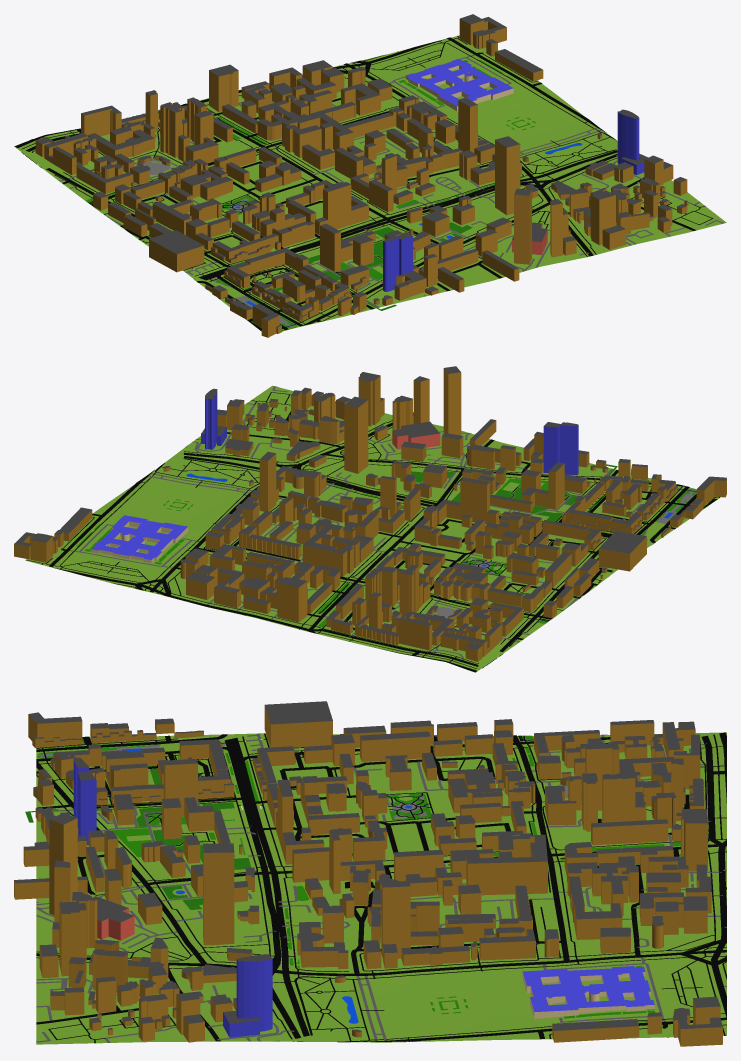
The model's file is tile_05_04.glb.
The picture shows the model from 3 angles, top to bottom: view 1: azimuth 30°, elevation 25°; view 2: azimuth 150°, elevation 25°; view 3: azimuth 270°, elevation 25°; orthographic projection. The views are drawn at different scales.
Visible parts, largest first — view 1: Ub_small.osm_buildings_05_04, Terrain_05_04, Ub_small.osm_paths_footway_05_04, Government_05_04, Ub_small.osm_roads_service_05_04, Ub_small.osm_roads_secondary_05_04, Ub_small.osm_roads_trunk_05_04, Ub_small.osm_vegetation_05_04, Twin_Tower_05_04, Ub_small.osm_roads_residential_05_04, Blue_Sky_05_04, Ub_small.osm_forest_05_04 (+2 smaller); view 2: Ub_small.osm_buildings_05_04, Terrain_05_04, Ub_small.osm_paths_footway_05_04, Ub_small.osm_roads_secondary_05_04, Government_05_04, Ub_small.osm_roads_service_05_04, Twin_Tower_05_04, Ub_small.osm_roads_primary_05_04, Ub_small.osm_roads_residential_05_04, Ub_small.osm_vegetation_05_04, Ub_small.osm_roads_trunk_05_04, National_Drama_Theatre_05_04 (+3 smaller); view 3: Ub_small.osm_buildings_05_04, Terrain_05_04, Ub_small.osm_paths_footway_05_04, Ub_small.osm_roads_secondary_05_04, Ub_small.osm_roads_service_05_04, Government_05_04, Ub_small.osm_roads_trunk_05_04, Ub_small.osm_roads_residential_05_04, Ub_small.osm_vegetation_05_04, Blue_Sky_05_04, Ub_small.osm_roads_primary_05_04, Twin_Tower_05_04 (+3 smaller).
Boxes of the visible parts, x1,y1,x2,y2 form: Ub_small.osm_buildings_05_04: [35, 14, 688, 337]; Terrain_05_04: [14, 35, 726, 331]; Ub_small.osm_paths_footway_05_04: [21, 36, 713, 331]; Government_05_04: [405, 58, 513, 111]; Ub_small.osm_roads_service_05_04: [35, 51, 724, 307]; Ub_small.osm_roads_secondary_05_04: [23, 37, 606, 330]; Ub_small.osm_roads_trunk_05_04: [194, 150, 617, 282]; Ub_small.osm_vegetation_05_04: [86, 59, 535, 330]; Twin_Tower_05_04: [383, 232, 412, 291]; Ub_small.osm_roads_residential_05_04: [62, 98, 502, 330]; Blue_Sky_05_04: [617, 109, 647, 175]; Ub_small.osm_forest_05_04: [273, 222, 472, 310]; Ub_small.osm_buildings_05_04: [14, 366, 726, 661]; Terrain_05_04: [25, 385, 720, 672]; Ub_small.osm_paths_footway_05_04: [26, 392, 719, 668]; Ub_small.osm_roads_secondary_05_04: [49, 453, 696, 666]; Government_05_04: [92, 515, 188, 563]; Ub_small.osm_roads_service_05_04: [69, 386, 641, 660]; Twin_Tower_05_04: [543, 422, 578, 475]; Ub_small.osm_roads_primary_05_04: [53, 567, 483, 672]; Ub_small.osm_roads_residential_05_04: [176, 439, 717, 639]; Ub_small.osm_vegetation_05_04: [77, 478, 713, 630]; Ub_small.osm_roads_trunk_05_04: [183, 422, 655, 545]; National_Drama_Theatre_05_04: [392, 421, 440, 449]; Ub_small.osm_buildings_05_04: [14, 701, 722, 1046]; Terrain_05_04: [36, 732, 726, 1044]; Ub_small.osm_paths_footway_05_04: [36, 733, 726, 1043]; Ub_small.osm_roads_secondary_05_04: [36, 734, 726, 1041]; Ub_small.osm_roads_service_05_04: [36, 733, 726, 1042]; Government_05_04: [522, 966, 654, 1018]; Ub_small.osm_roads_trunk_05_04: [36, 738, 309, 1041]; Ub_small.osm_roads_residential_05_04: [36, 735, 689, 973]; Ub_small.osm_vegetation_05_04: [36, 735, 726, 1022]; Blue_Sky_05_04: [223, 954, 272, 1037]; Ub_small.osm_roads_primary_05_04: [681, 732, 726, 1017]; Twin_Tower_05_04: [73, 757, 96, 845].
Bounding box in the file's own units: 1036 × 145 × 960.
